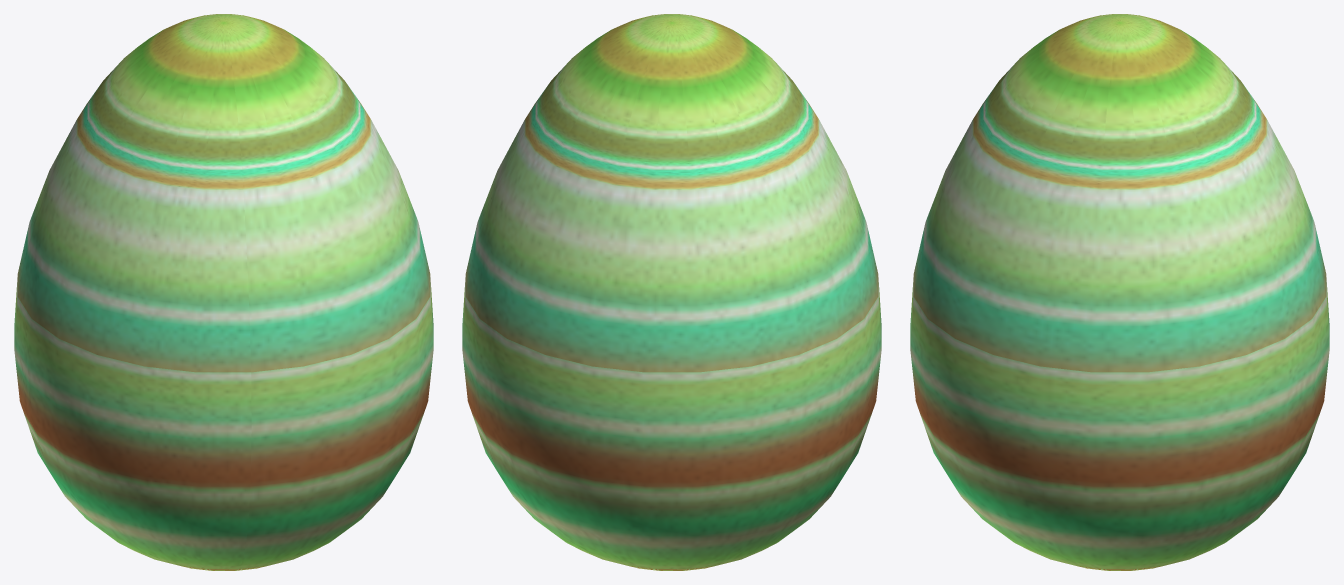
The model's file is egg.fbx.
3 views of the same model, side by side, from view 1: azimuth 30°, elevation 25°; view 2: azimuth 150°, elevation 25°; view 3: azimuth 270°, elevation 25° (orthographic).
Parts seen in each view (by area): view 1: eggP; view 2: eggP; view 3: eggP.
Part boxes in pixels (bbox=[...]): eggP: bbox=[14, 14, 433, 570]; eggP: bbox=[462, 14, 881, 570]; eggP: bbox=[910, 14, 1329, 570].
Size of the model in its own units: 72.43 by 99.8 by 72.43.
